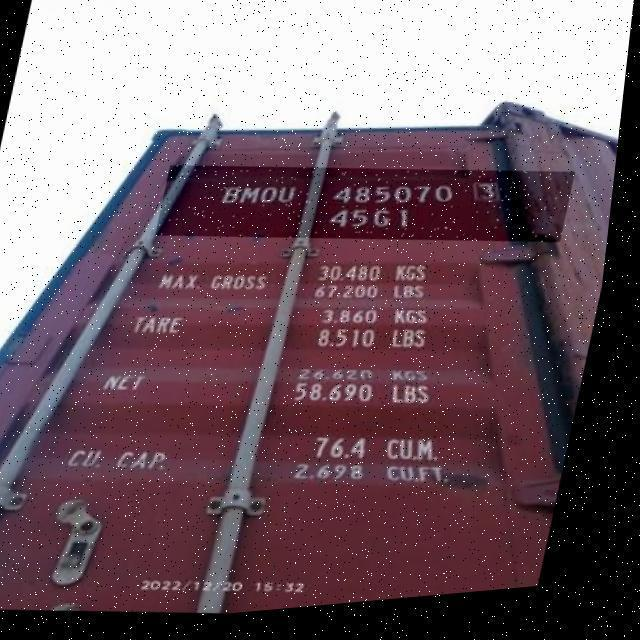container_number_h: (157, 140, 584, 282)
